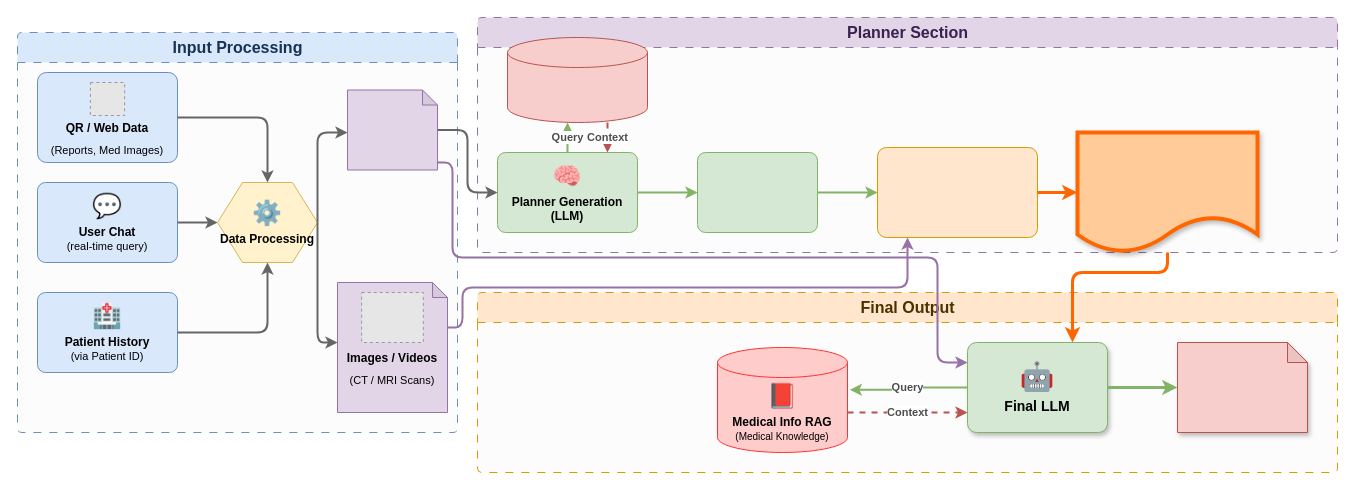
Image size: 1355x490. Some labels were removed from this diagram. Grey dashed boxes stand in for pictures. The shapes that lost their labels are listed below. From the top down, each one's centre as x and y in pixels, then its label:
(x=577, y=79): 📘 Planner RAG (Workflow Context)
(x=392, y=129): 🩸📝 Text
(x=757, y=192): ⚙️ Tools Planner
(x=957, y=192): 🧰 Medical Tools (Detection/Seg./Quant.)
(x=1168, y=193): 🌟📊 Quantitative Results
(x=1243, y=389): 📋 Final Report
